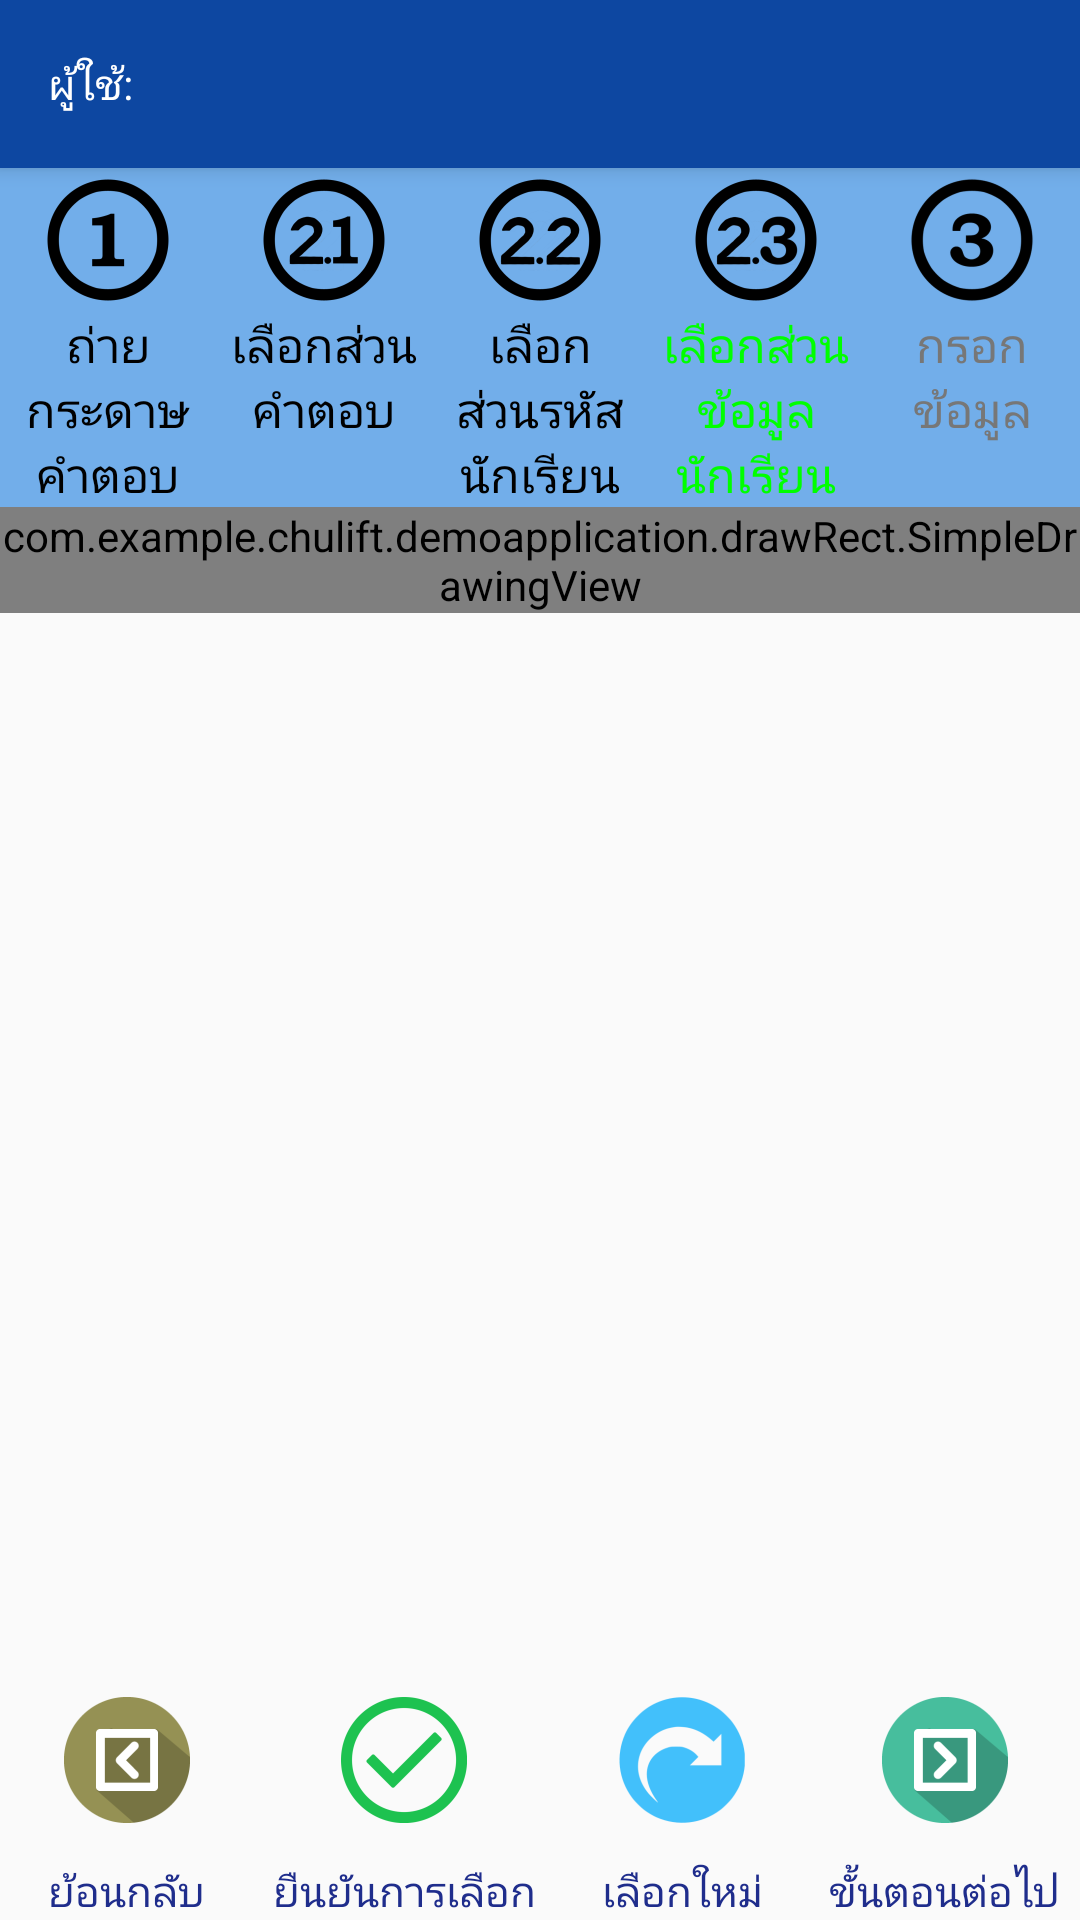

Point at icon controls on the screen. Image size 1080×1920, points as (x=x, y=y).
ถัดไป: (x=945, y=1760)
